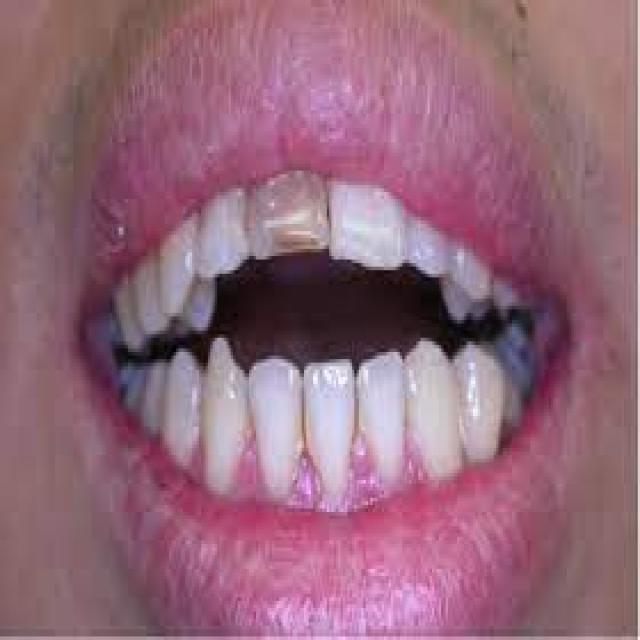tooth: (404, 327, 462, 480), (247, 345, 304, 498), (354, 334, 412, 484), (302, 338, 356, 498), (331, 175, 407, 278), (203, 323, 247, 498), (247, 167, 329, 256), (455, 327, 503, 469), (162, 327, 204, 484), (199, 182, 244, 278), (407, 210, 457, 277), (158, 228, 196, 310), (130, 260, 167, 330)
